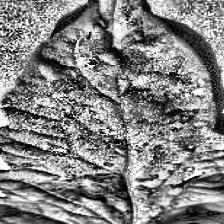Angular Leafspot: (67, 168, 135, 200), (76, 23, 112, 63), (118, 42, 152, 82)
